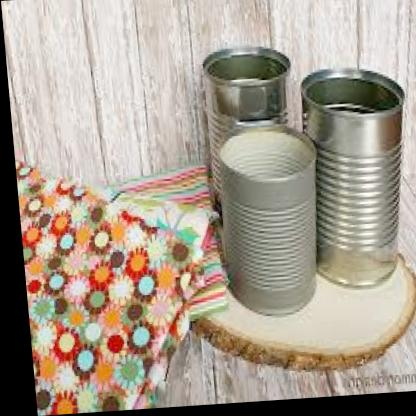Metal: (177, 16, 416, 306)
